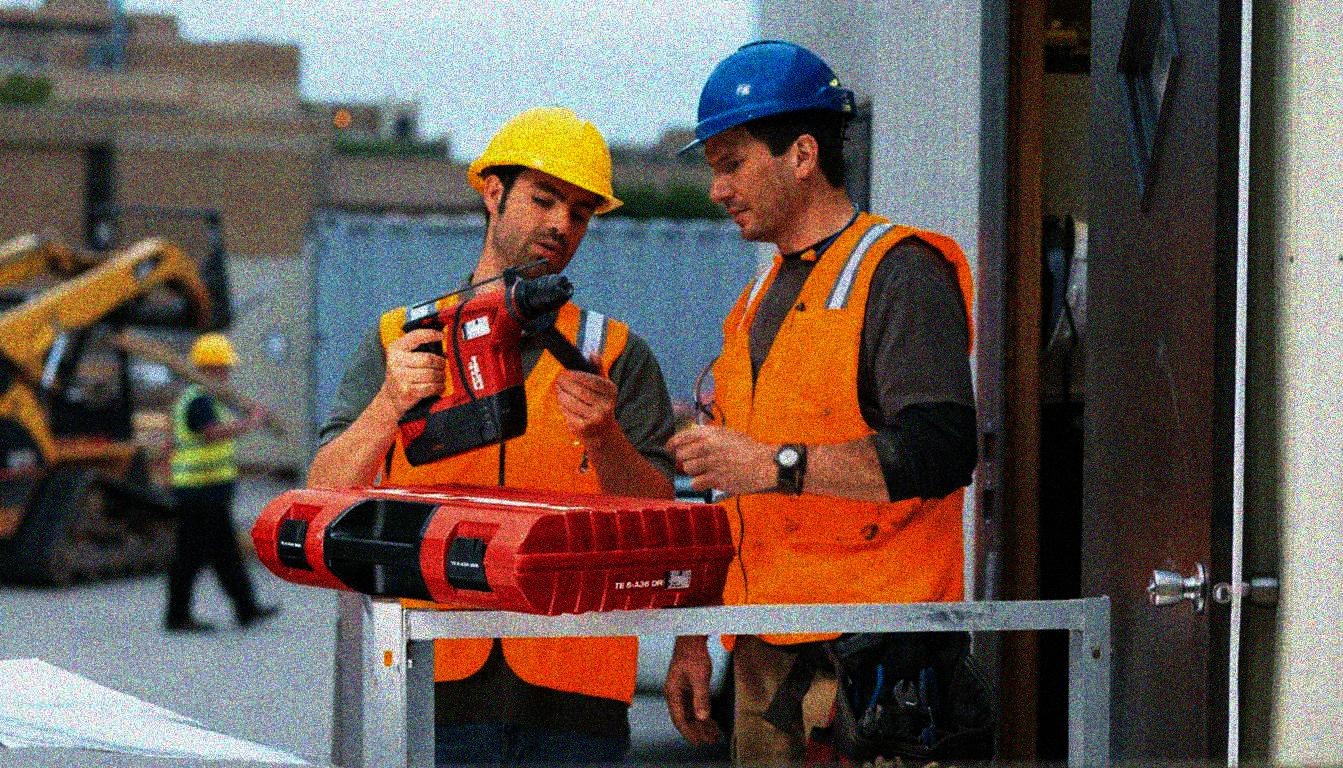helmet: (681, 39, 857, 237), (465, 105, 628, 278), (188, 333, 240, 386)
